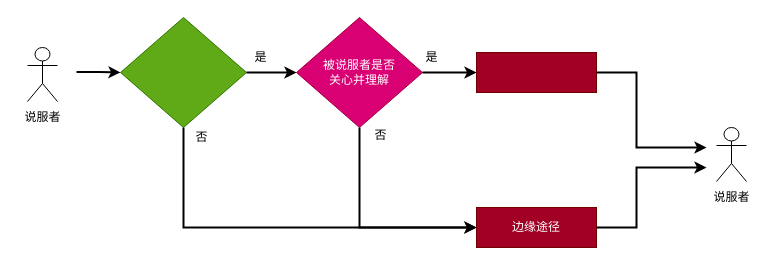
This 773x265 diagram has some shape labels left out. The box of each missing label's shape, as (x1, y1, x2, y2) in pixels:
中心途径: (476, 52, 596, 92)
被说服者是否 情绪稳定？: (120, 16, 246, 128)
